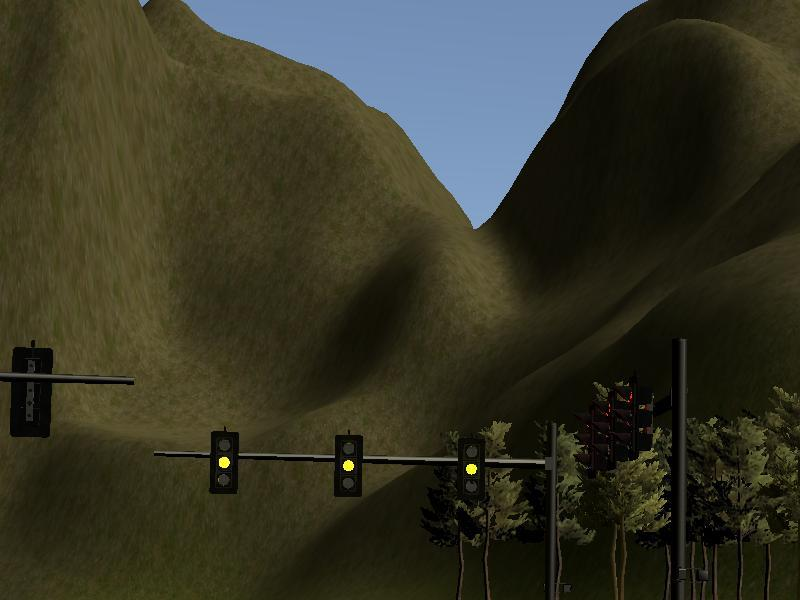Yellow: (210, 431, 239, 494), (334, 435, 363, 496), (458, 438, 485, 498)
